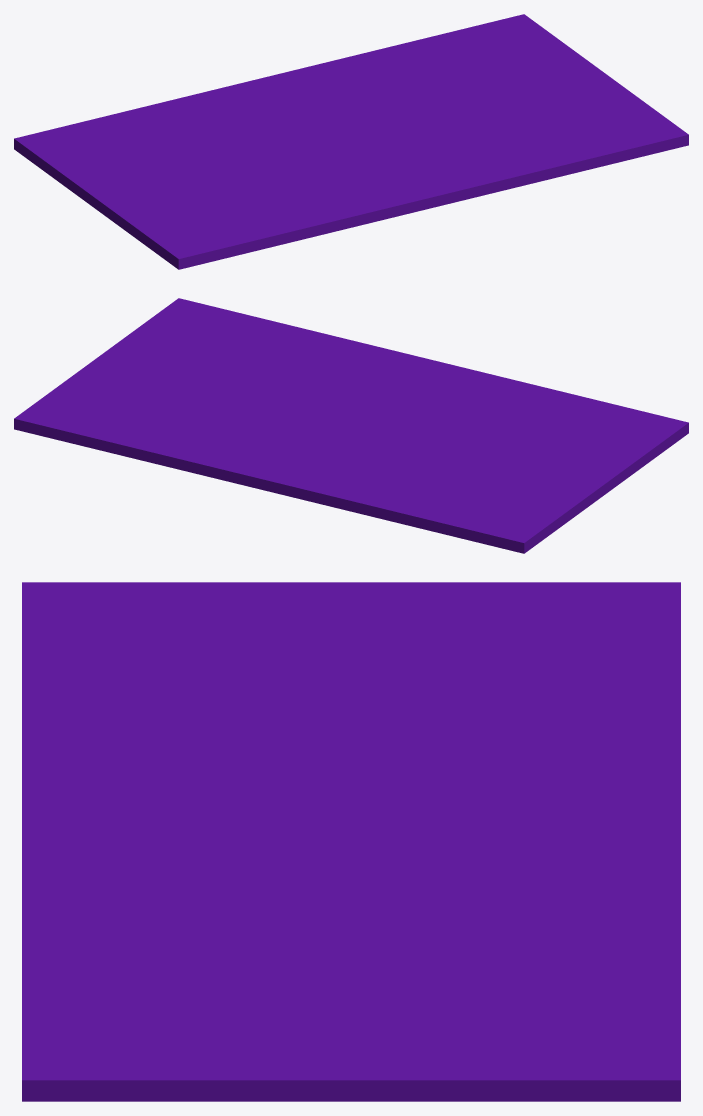
File: Exhibition_19.014_chunks.fbx
3 renders of one model, top to bottom at view 1: azimuth 30°, elevation 25°; view 2: azimuth 150°, elevation 25°; view 3: azimuth 270°, elevation 25°, orthographic. The views are drawn at different scales.
Visible parts, largest first — view 1: Exhibition_19.014_2, Exhibition_19.014_3, Exhibition_19.014_1, Exhibition_19.014_0; view 2: Exhibition_19.014_2, Exhibition_19.014_1, Exhibition_19.014_3, Exhibition_19.014_0; view 3: Exhibition_19.014_2, Exhibition_19.014_3, Exhibition_19.014_1, Exhibition_19.014_0.
Part boxes in pixels (x1,y1,x2,y2): Exhibition_19.014_2: (14, 105, 375, 269); Exhibition_19.014_3: (352, 61, 688, 221); Exhibition_19.014_1: (152, 14, 588, 134); Exhibition_19.014_0: (287, 126, 357, 144); Exhibition_19.014_2: (363, 375, 688, 553); Exhibition_19.014_1: (14, 371, 386, 519); Exhibition_19.014_3: (79, 298, 494, 419); Exhibition_19.014_0: (344, 416, 368, 448); Exhibition_19.014_2: (22, 582, 680, 823); Exhibition_19.014_3: (22, 771, 422, 1101); Exhibition_19.014_1: (355, 717, 680, 1101); Exhibition_19.014_0: (316, 794, 455, 837).
Size of the model in its own units: 642 by 12.85 by 359.
